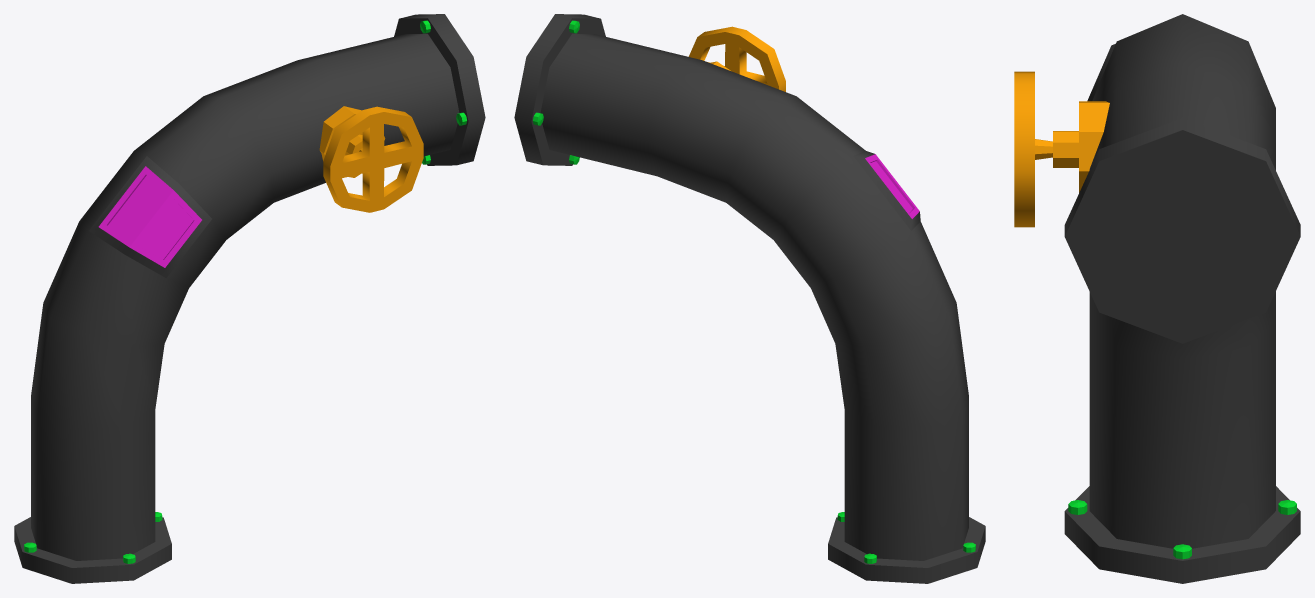
Rendered from SM_ENV_PIPE_TURN_01.FBX.
3 views of the same model, side by side, from view 1: azimuth 30°, elevation 25°; view 2: azimuth 150°, elevation 25°; view 3: azimuth 270°, elevation 25° (orthographic). The views are drawn at different scales.
Parts seen in each view (by area): view 1: pipe_turn_01; view 2: pipe_turn_01; view 3: pipe_turn_01.
Part boxes in pixels (x1=…): pipe_turn_01: x1=14, y1=14, x2=485, y2=583; pipe_turn_01: x1=514, y1=14, x2=985, y2=583; pipe_turn_01: x1=1014, y1=14, x2=1300, y2=583.
Bounding box in the file's own units: 136 × 139 × 55.14.
